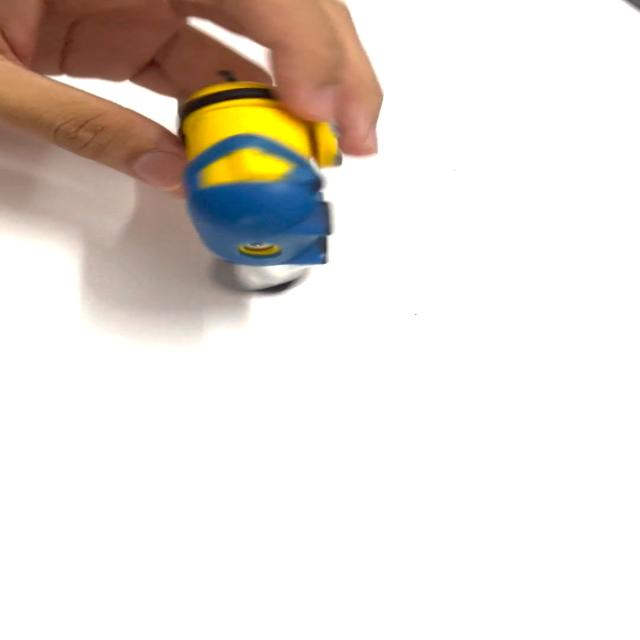airpod minion: (164, 79, 351, 308)
